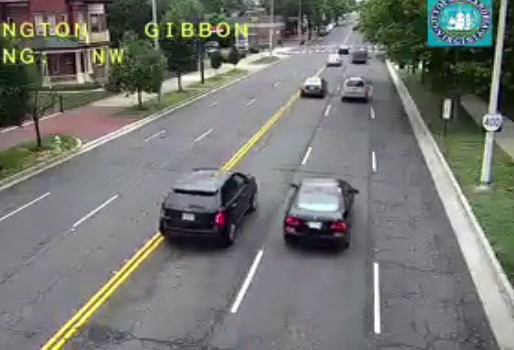car: (158, 169, 256, 239), (283, 178, 353, 246), (342, 77, 367, 99), (301, 77, 325, 96)
